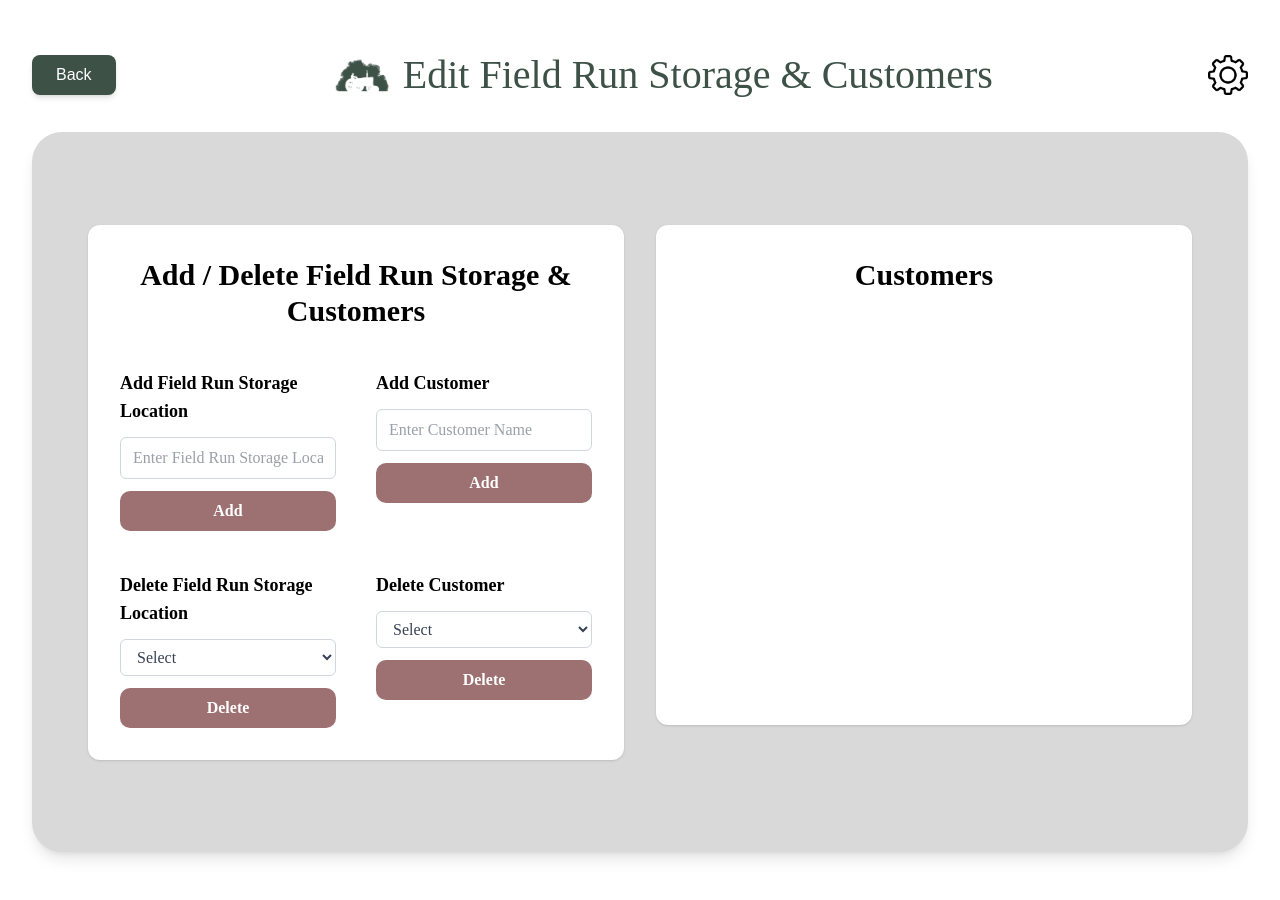
Test case: EditFRStorageSuppliers (unit tests) › shows error message when backend rejects a duplicate customer name
The width and height of the screenshot is (1280, 900).
In the field with placeholder "Enter Customer Name": (484, 430) [376,408,592,450], type "Alice"
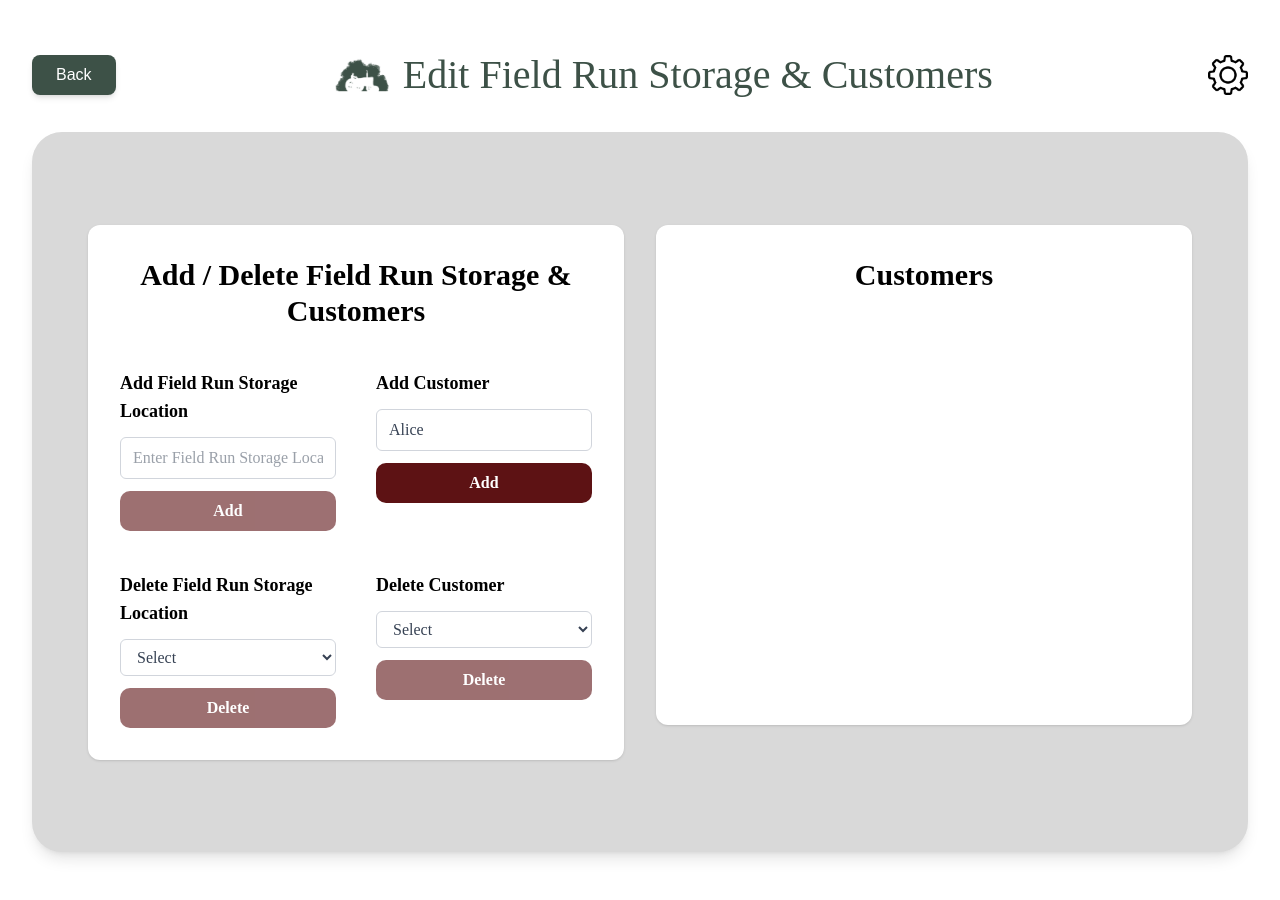
Click the button "Add" below "Add Customer": (484, 482) [376,462,592,502]
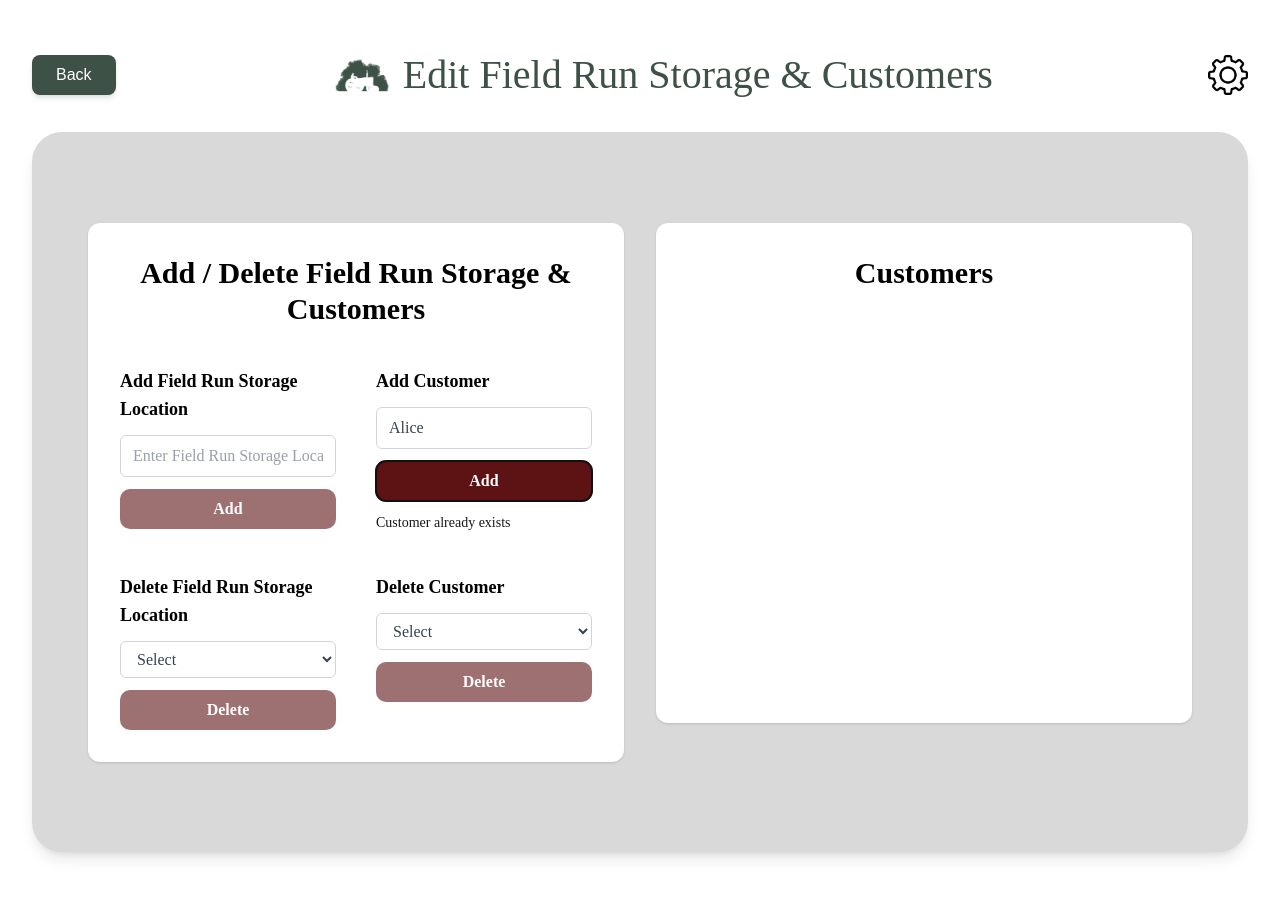
Result: the text "Customer already exists" is shown at [376,514,510,530]
